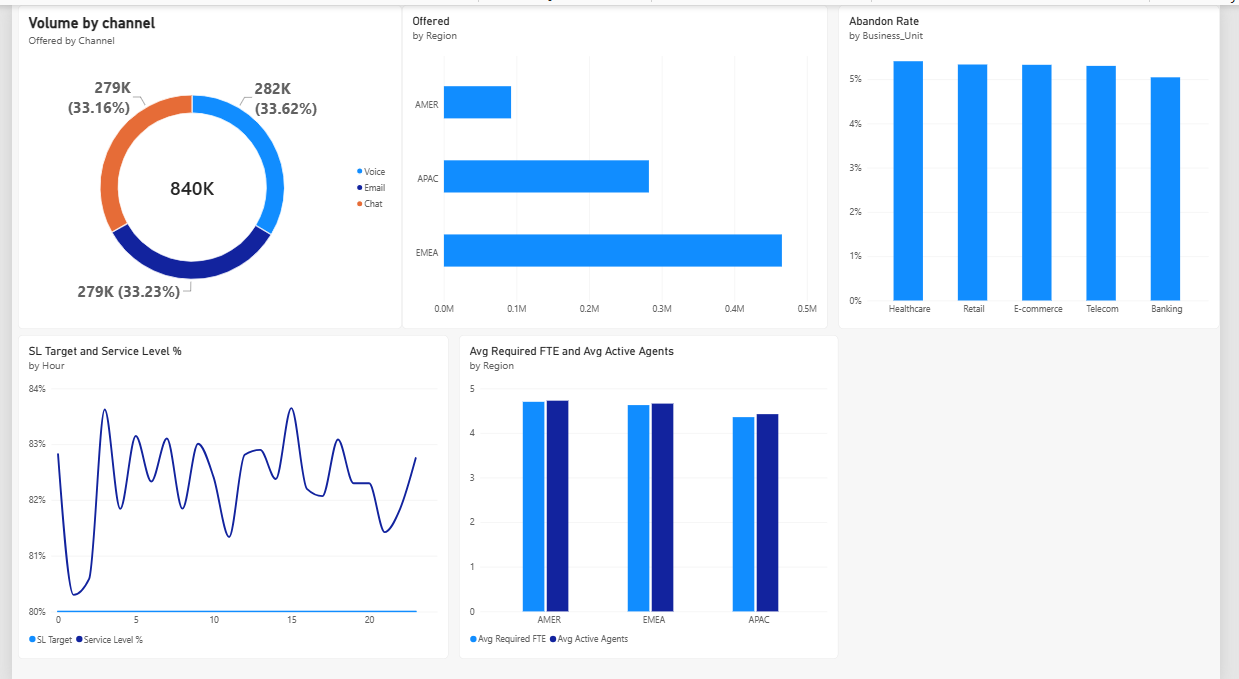

The page's visual inventory and layout, read from the dashboard file:
{"tool":"powerbi","page":{"name":"Analysis","canvas":[1920,1080],"ordinal":2},"visuals":[{"type":"donutChart","title":"Volume by channel","fields":{"Category":["Data.Channel"],"Y":["Data.Offered"]},"box":[9.5,0,610.8,515.4],"z":0},{"type":"barChart","fields":{"Category":["Data.Region Hierarchy.Region","Data.Region Hierarchy.Country","Data.Region Hierarchy.Site"],"Y":["Data.Offered"]},"box":[620.3,0,677.6,515.4],"z":1},{"type":"columnChart","fields":{"Category":["Data.Business_Unit"],"Y":["Data.Abandon Rate"]},"box":[1314.6,0,606,515.4],"z":2},{"type":"lineChart","fields":{"Category":["Data.Hour"],"Y":["Data.SL Target","Data.Service Level %"]},"box":[9.5,524.9,684.8,515.4],"z":3},{"type":"clusteredColumnChart","fields":{"Category":["Data.Region Hierarchy.Region"],"Y":["Data.Avg Required FTE","Data.Avg Active Agents"]},"box":[711,524.9,603,515],"z":4}]}

Visuals, with their boxes in screenshot pixels (x1, y1, x2, y2), scaled from the page's 1920x1080 canvas onto the 1239x679 screenshot:
"Volume by channel" donutChart: (x1=6, y1=0, x2=400, y2=324)
barChart - Data.Region Hierarchy.Region x Data.Region Hierarchy.Country: (x1=400, y1=0, x2=838, y2=324)
columnChart - Data.Business_Unit x Data.Abandon Rate: (x1=848, y1=0, x2=1238, y2=324)
lineChart - Data.Hour x Data.SL Target: (x1=6, y1=330, x2=448, y2=654)
clusteredColumnChart - Data.Region Hierarchy.Region x Data.Avg Required FTE: (x1=459, y1=330, x2=848, y2=654)
